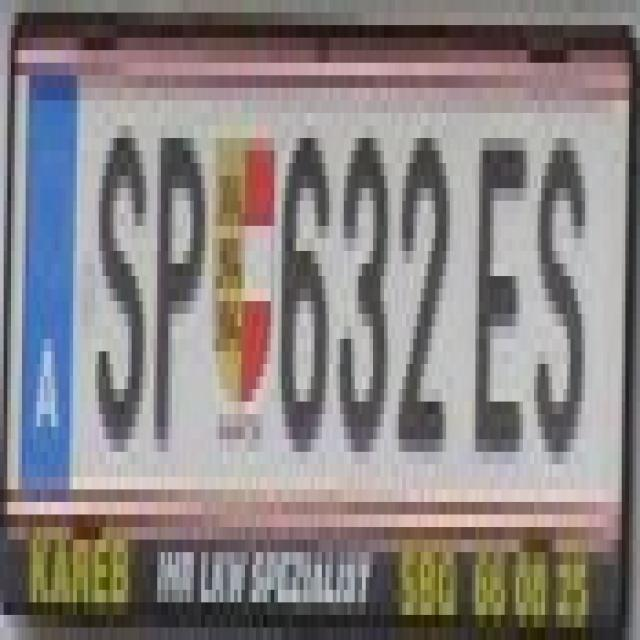2: (395, 100, 450, 452)
3: (333, 100, 384, 452)
6: (274, 112, 326, 440)
E: (461, 100, 526, 452)
P: (150, 112, 201, 440)
S: (530, 113, 585, 452), (91, 100, 142, 452)
